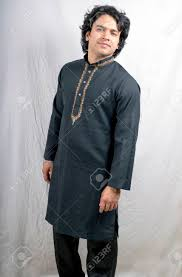Indian_Male: (86, 12, 121, 61)
